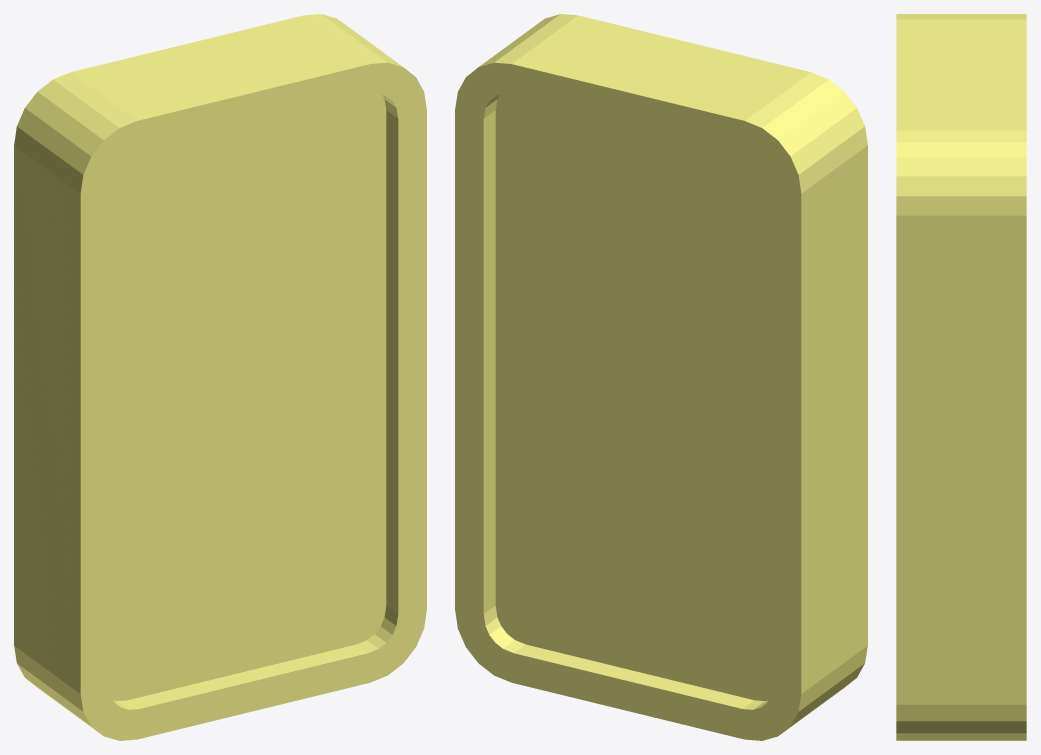
File: domino.glb
The picture shows the model from 3 angles, left to right: view 1: azimuth 30°, elevation 25°; view 2: azimuth 150°, elevation 25°; view 3: azimuth 270°, elevation 25°; orthographic projection. The views are drawn at different scales.
Parts seen in each view (by area): view 1: Cube.001; view 2: Cube.001; view 3: Cube.001.
Part boxes in pixels (x1,y1,x2,y2): Cube.001: (14,14,426,740); Cube.001: (455,14,867,740); Cube.001: (896,14,1026,740).
Size of the model in its own units: 0.5924 by 1.01 by 0.1972.
1 material, 1 textured.
